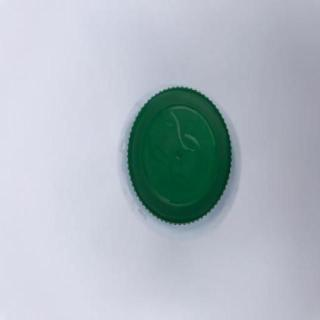Plastic-bottle: (124, 86, 234, 226)
